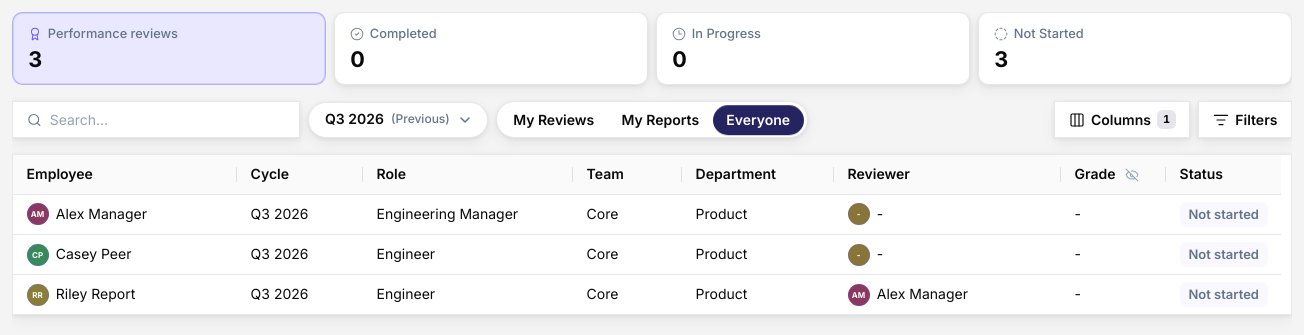
Test: ScorecardsList › uses the header eye to hide and show every grade
The image size is (1304, 335).
Expected: the text "Performing" is not shown
Expected: the text "Exceeding" is not shown
Step 1. Click the button named "Show All Grades" → (1132, 175), box [1120,163,1144,187]
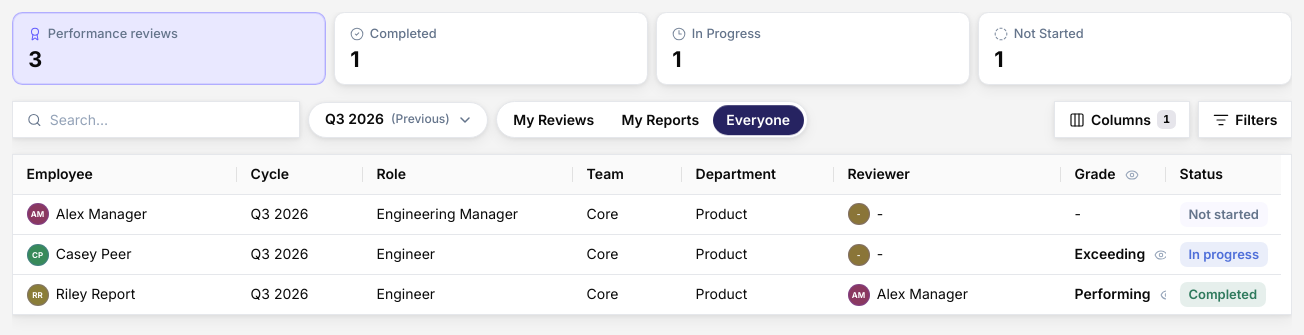
Now the text "Performing" is shown, box [1075,285,1150,304]
Now the text "Exceeding" is shown, box [1075,245,1145,264]
Step 2. Click the button named "Hide All Grades" → (1132, 175), box [1120,163,1144,187]
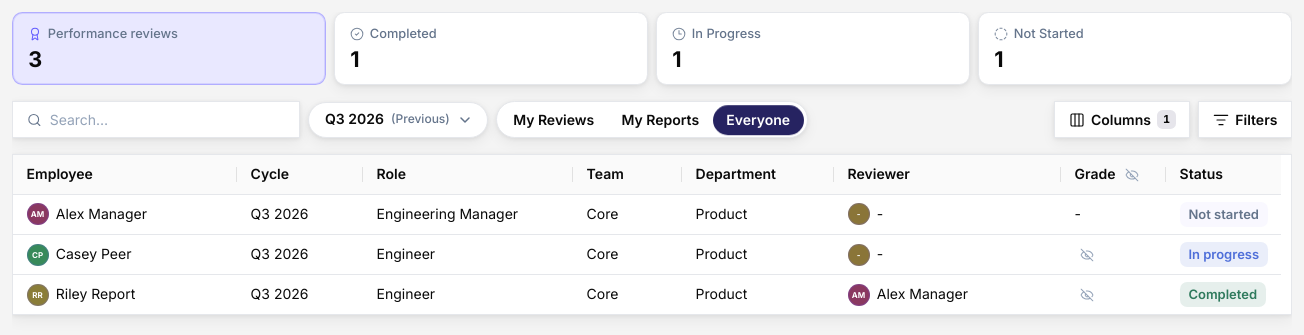
Now the text "Performing" is gone
Now the text "Exceeding" is gone
